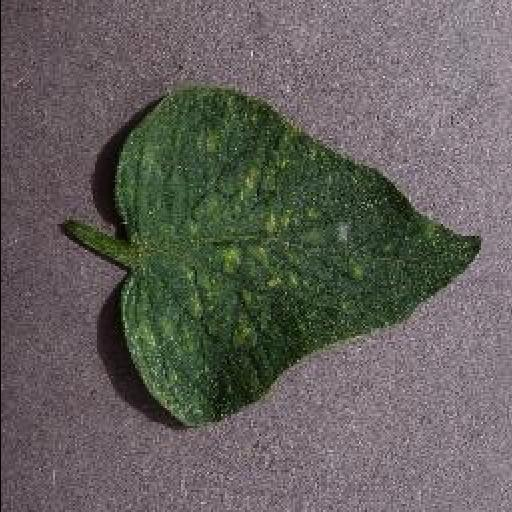disease_tomato: (113, 92, 483, 428)
